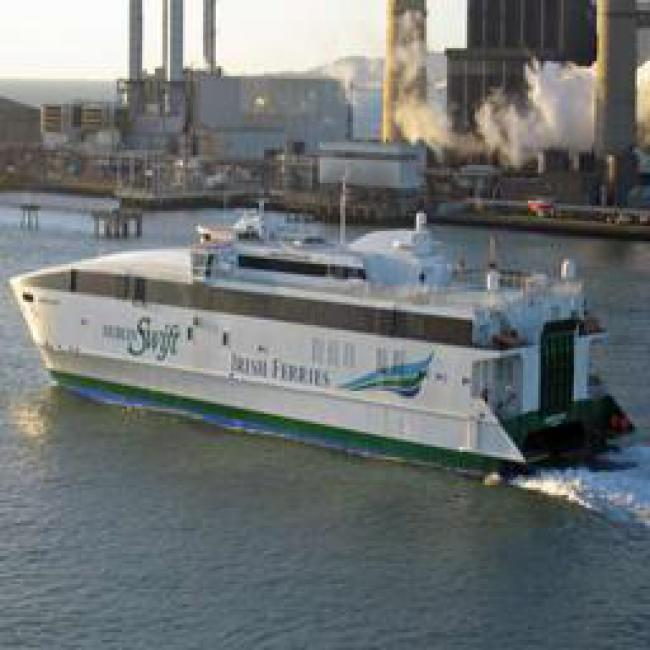Ship: (21, 228, 639, 483)
